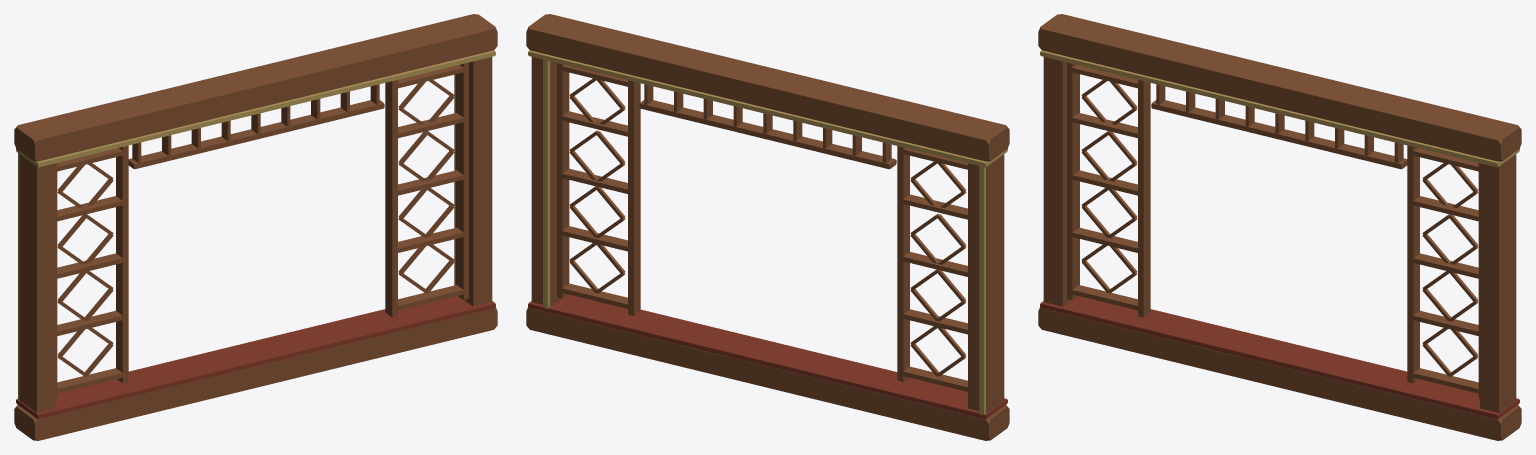
The model's file is lattice_window.glb.
The picture shows the model from 3 angles, left to right: view 1: azimuth 30°, elevation 25°; view 2: azimuth 150°, elevation 25°; view 3: azimuth 330°, elevation 25°; orthographic projection.
Parts seen in each view (by area): view 1: lattice_window; view 2: lattice_window; view 3: lattice_window.
Boxes of the visible parts, bbox=[...] form: lattice_window: bbox=[14, 14, 497, 440]; lattice_window: bbox=[526, 14, 1009, 440]; lattice_window: bbox=[1038, 14, 1521, 440].
Size of the model in its own units: 3.88 by 2.41 by 0.32.
